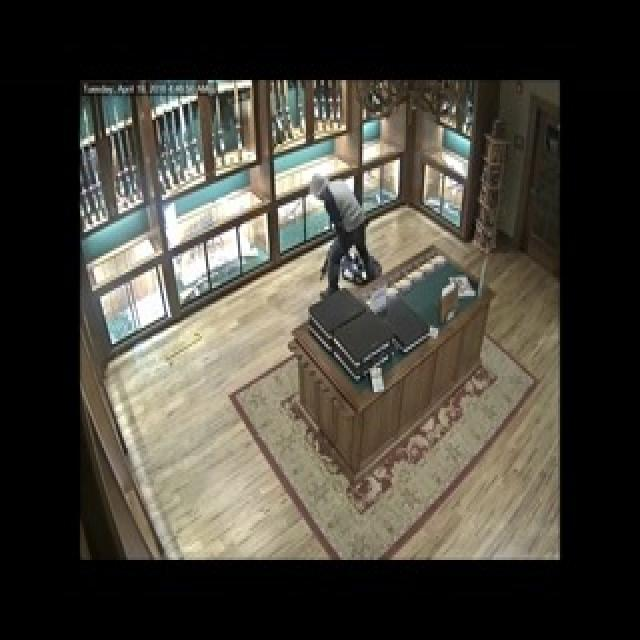thief: (309, 160, 381, 294)
